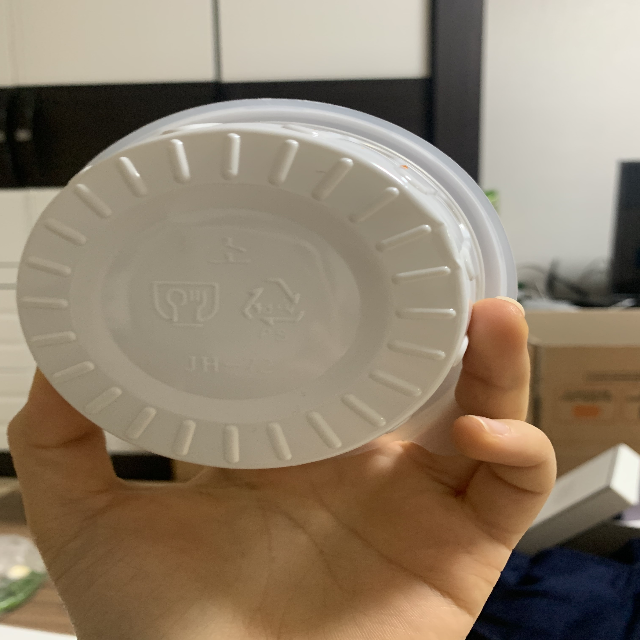ps: (243, 275, 307, 342)
